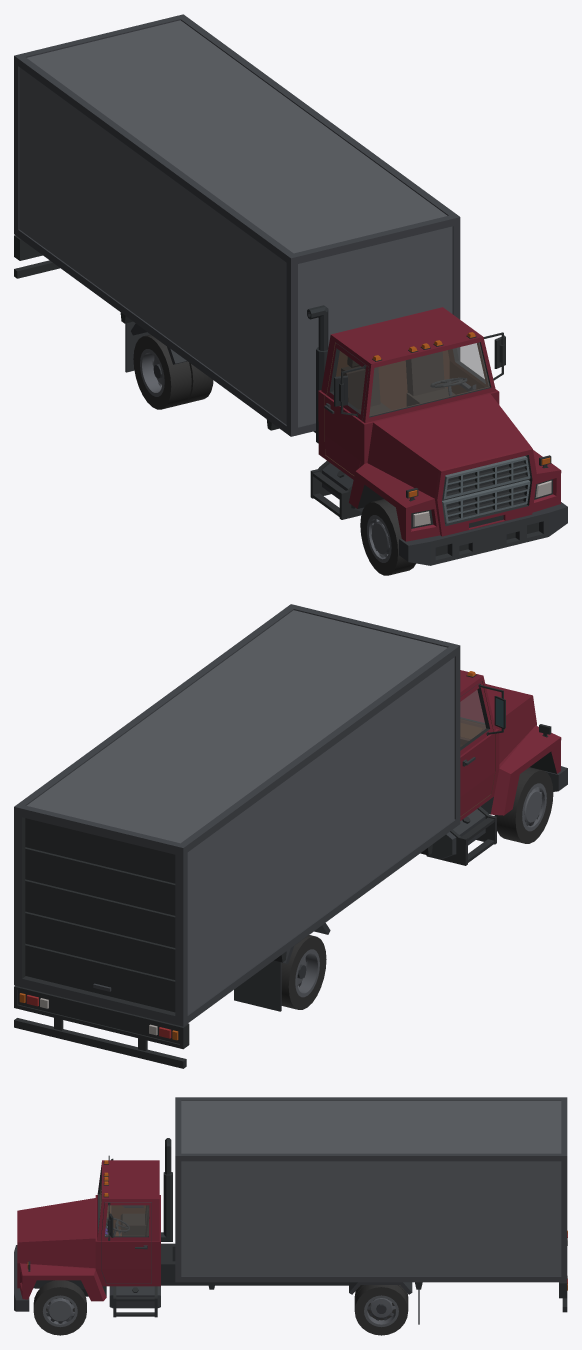
Rendered from 03_CITY_TRUCK.glb.
3 renders of one model, top to bottom at view 1: azimuth 30°, elevation 25°; view 2: azimuth 150°, elevation 25°; view 3: azimuth 270°, elevation 25°, orthographic. The views are drawn at different scales.
Visible parts, largest first — view 1: CONTAINER, CITY TRUCK, CABINE WINDOWS, WHEEL_2R, DOOR_R, INTERIOR.003, WHEEL_1R, DOOR_L, DOOR_R.WINDOW; view 2: CONTAINER, CITY TRUCK, DOOR_R, WHEEL_1R, WHEEL_2R, DOOR_R.WINDOW; view 3: CONTAINER, CITY TRUCK, DOOR_L, WHEEL_1L, WHEEL_2L, DOOR_L.WINDOW, INTERIOR.003, DOOR_R.
Boxes of the visible parts, box(x1,y1,x2,y2) form: CONTAINER: box(14, 14, 460, 436); CITY TRUCK: box(14, 235, 567, 565); CABINE WINDOWS: box(369, 343, 489, 415); WHEEL_2R: box(133, 334, 213, 409); DOOR_R: box(324, 343, 368, 475); INTERIOR.003: box(341, 351, 488, 416); WHEEL_1R: box(360, 499, 415, 575); DOOR_L: box(450, 332, 505, 394); DOOR_R.WINDOW: box(336, 351, 365, 410); CONTAINER: box(14, 604, 460, 1026); CITY TRUCK: box(14, 670, 567, 1068); DOOR_R: box(460, 681, 505, 816); WHEEL_1R: box(494, 767, 553, 843); WHEEL_2R: box(281, 935, 326, 1009); DOOR_R.WINDOW: box(460, 690, 485, 746); CONTAINER: box(175, 1097, 567, 1282); CITY TRUCK: box(14, 1138, 567, 1324); DOOR_L: box(101, 1202, 151, 1283); WHEEL_1L: box(33, 1280, 86, 1335); WHEEL_2L: box(354, 1285, 408, 1335); DOOR_L.WINDOW: box(105, 1205, 148, 1235); INTERIOR.003: box(100, 1194, 149, 1236); DOOR_R: box(101, 1155, 145, 1231).
Bounding box in the file's own units: 2.32 × 3.34 × 9.21.
2 materials, 2 textured.
